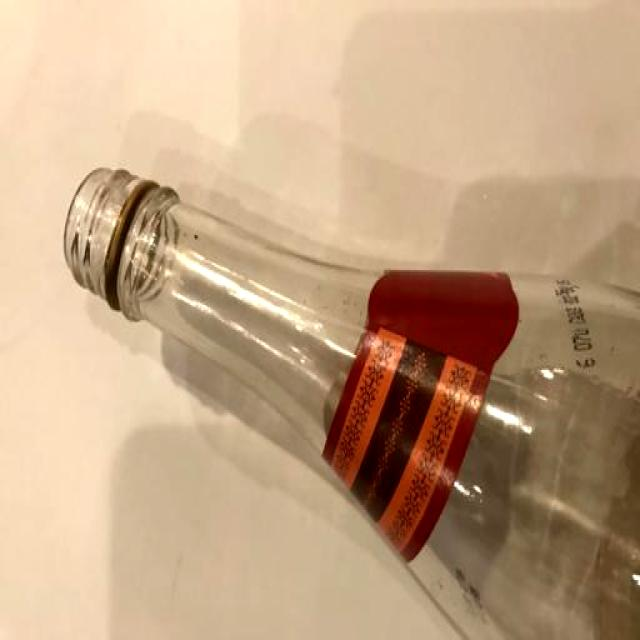Glass: (49, 141, 640, 640)
